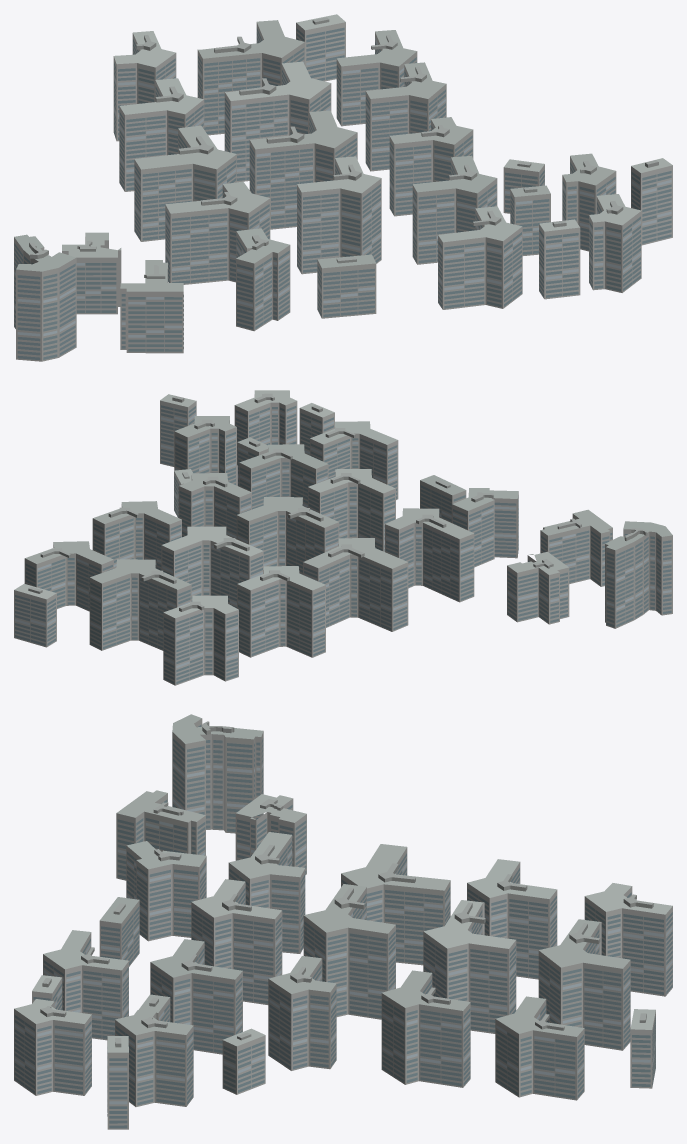
File: apt-a15678103.glb
3 renders of one model, top to bottom at view 1: azimuth 30°, elevation 25°; view 2: azimuth 150°, elevation 25°; view 3: azimuth 270°, elevation 25°, orthographic. The views are drawn at different scales.
Parts seen in each view (by area): view 1: apt-a15678103; view 2: apt-a15678103; view 3: apt-a15678103.
Part boxes in pixels (bbox=[...]): apt-a15678103: bbox=[14, 14, 672, 361]; apt-a15678103: bbox=[14, 390, 672, 685]; apt-a15678103: bbox=[14, 714, 672, 1129].
Bounding box in the file's own units: 392 × 57 × 341.
